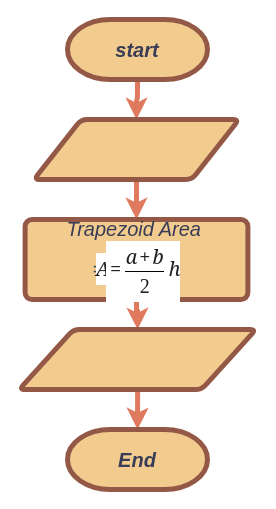
Some shapes in this 276 by 509 pixel diagram are drawn without their labels. Each missing label, with the centre of its shape:
"input 0.5(a+b)h" belongs at (x=136, y=149).
"Output Rectangle Area" belongs at (x=137, y=359).
